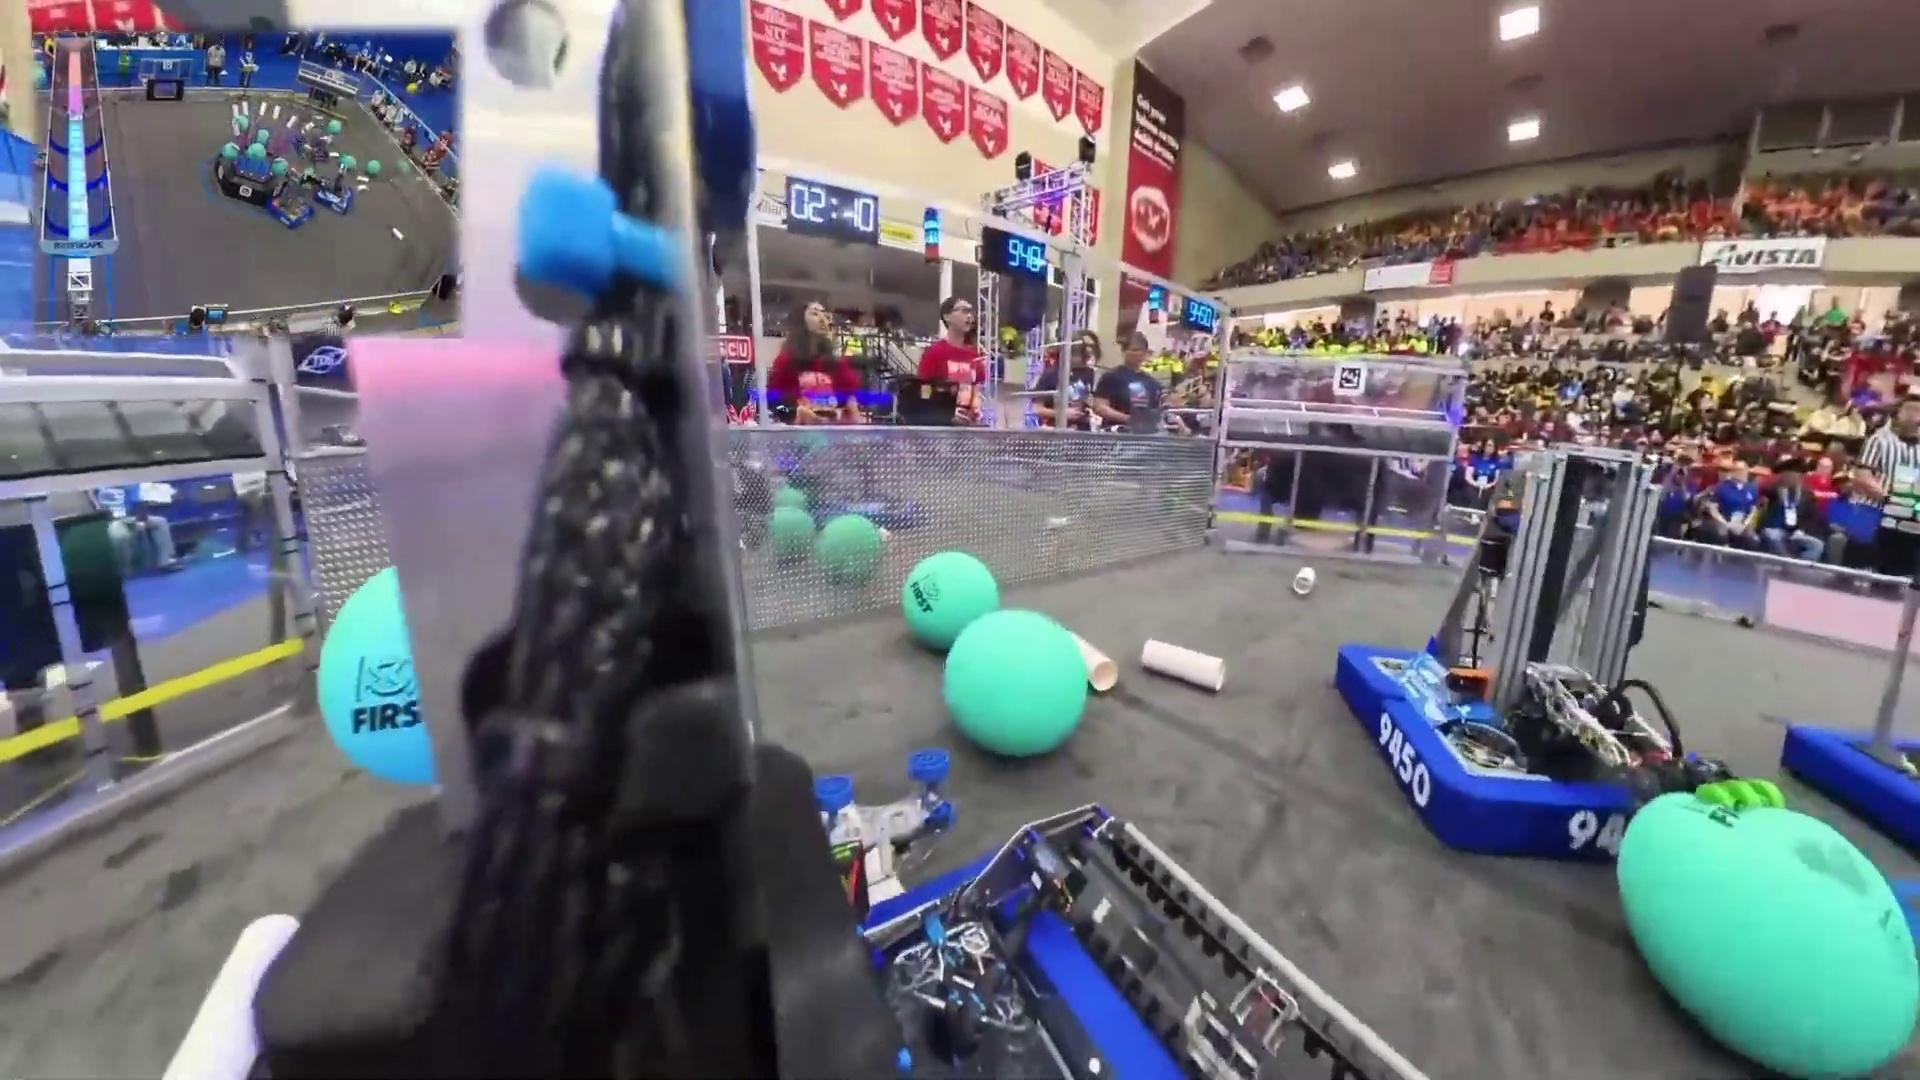robot: (1332, 433, 1766, 866), (1782, 582, 1920, 860), (261, 166, 315, 228), (316, 165, 360, 216)
